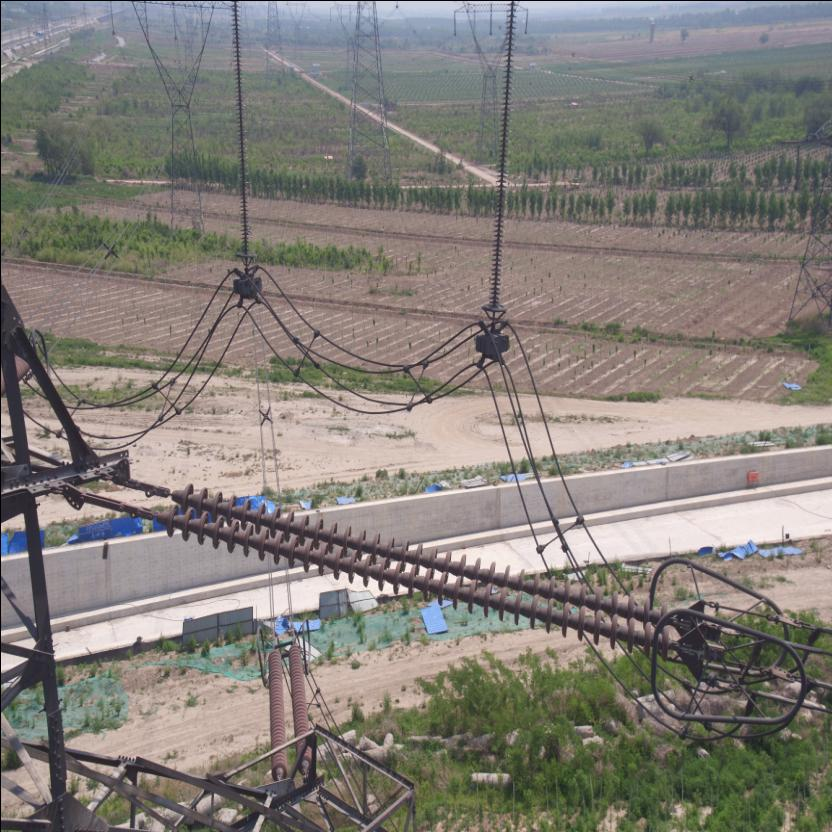insulator: (136, 475, 688, 662)
